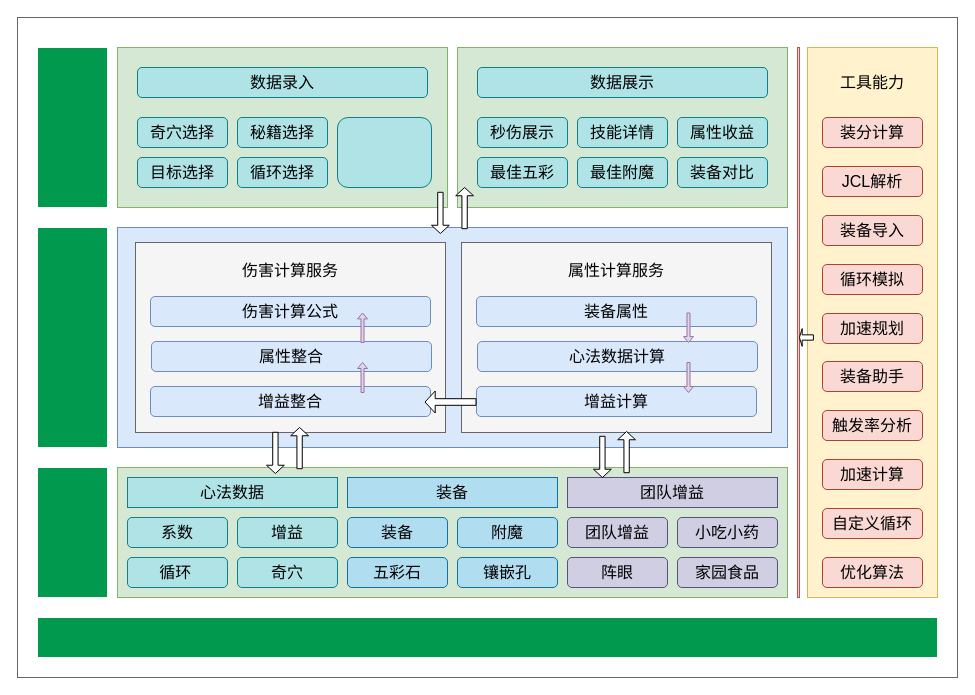
The diagram is 975 pixels wide and 695 high, and some of its shapes have lost their labels. Each missing label, with the centre of its shape:
"交互层" belongs at point 72,127.
"数据层" belongs at point 72,532.
"数据支撑服务 系数数据 JCL解析等" belongs at point 487,637.
"计算层" belongs at point 72,337.
"配装器" belongs at point 384,152.
